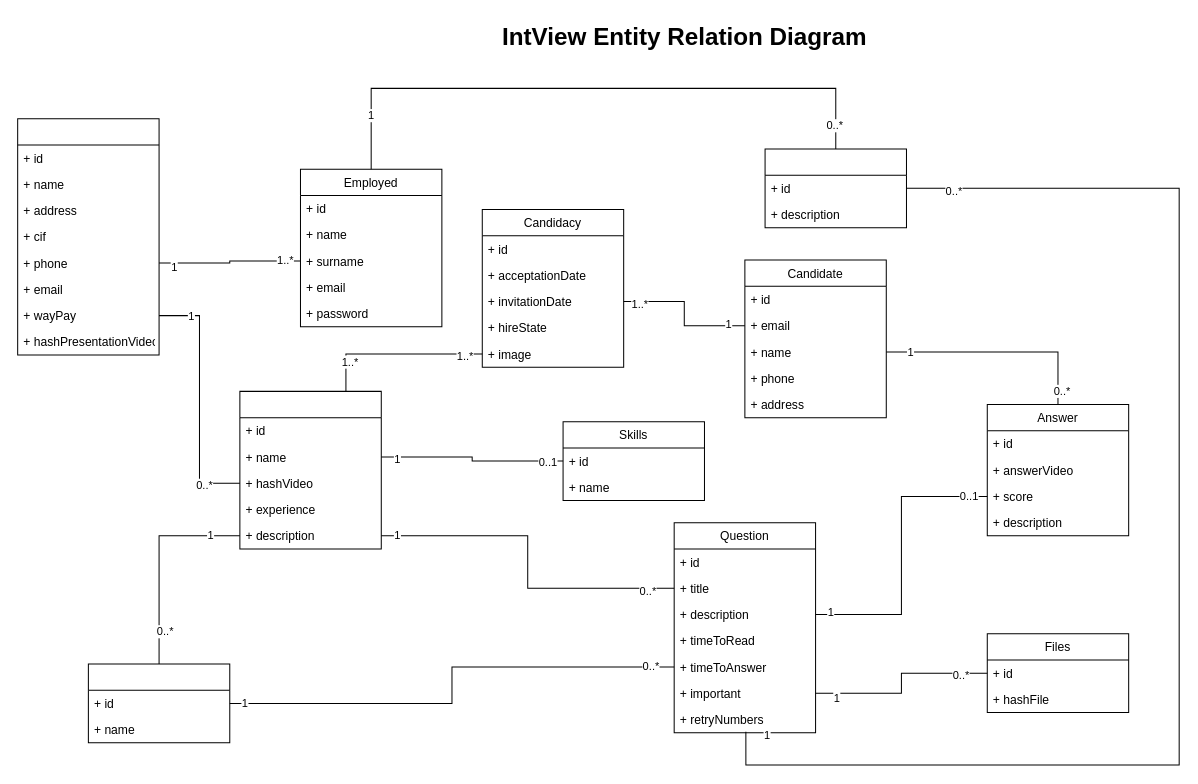
The diagram is 1198 pixels wide and 784 high, and some of its shapes have lost their labels. The box of each missing label's shape, as (x1, y1, x2, y2) in pixels:
Bussines: (17, 118, 159, 355)
Comment: (764, 148, 906, 228)
Interview: (239, 390, 381, 549)
QuestionBag: (87, 663, 230, 743)
